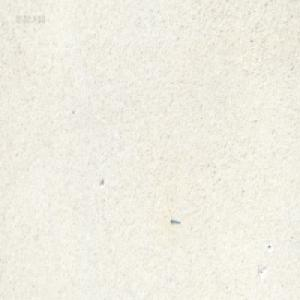Nail: (170, 217, 180, 224)
